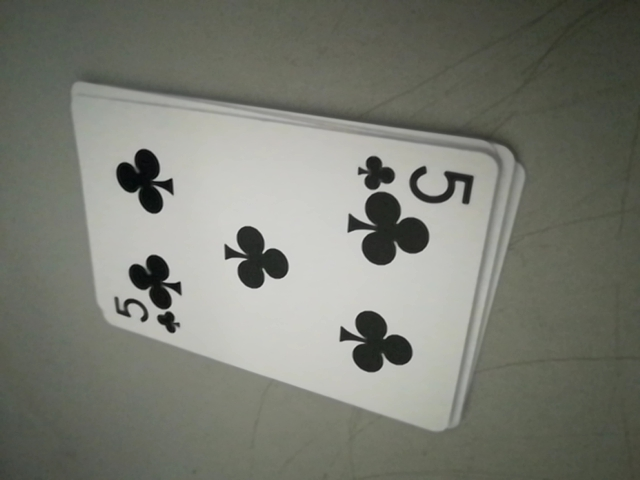mh 5: (354, 152, 484, 202), (109, 295, 184, 336)
